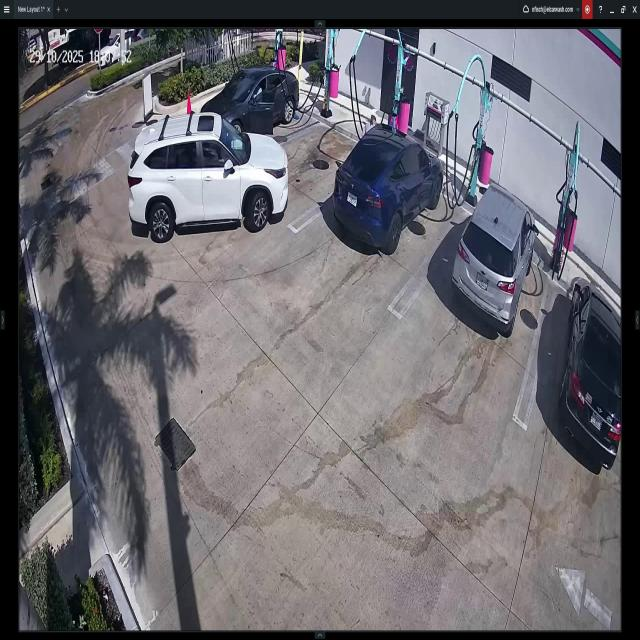Car: (129, 126, 286, 242), (330, 120, 442, 253), (454, 189, 536, 334), (562, 275, 622, 468), (200, 70, 298, 146)
